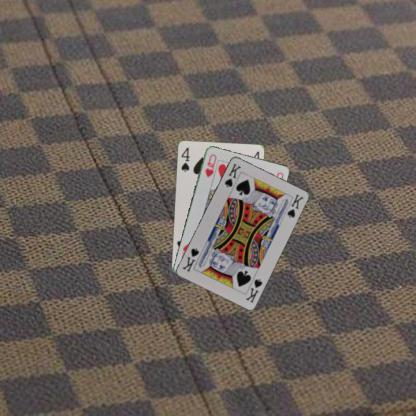4s: (178, 144, 190, 173)
Ks: (242, 276, 263, 304), (222, 160, 242, 188)
Qh: (202, 152, 218, 178)
